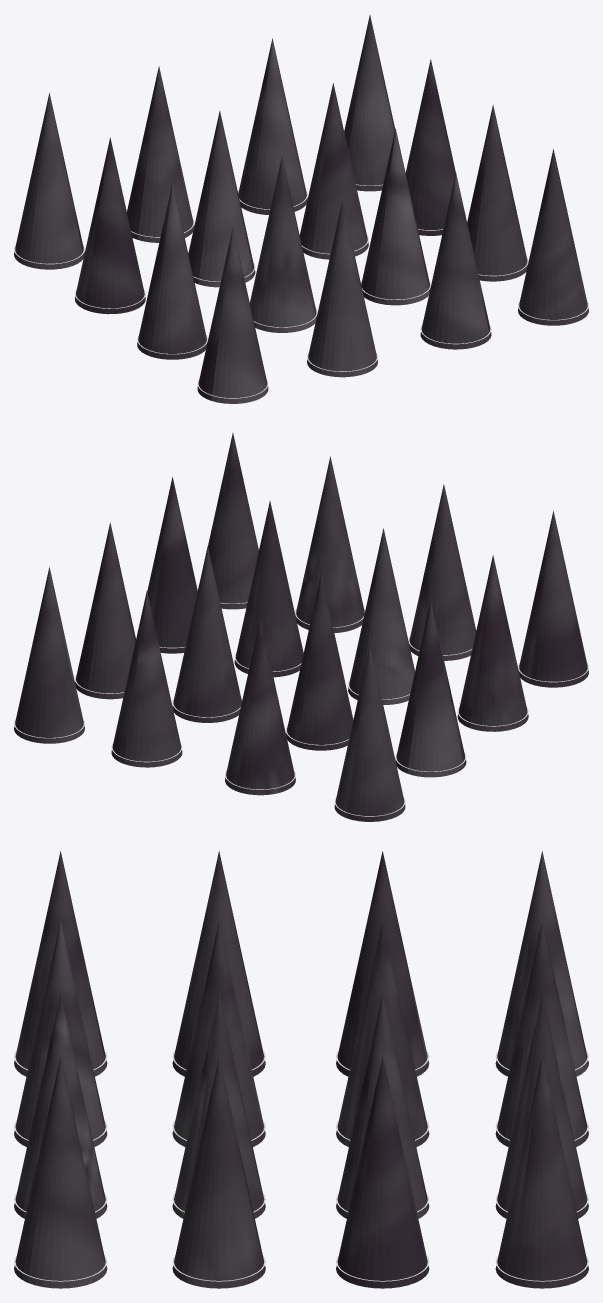
Rendered from Kolce.fbx.
The picture shows the model from 3 angles, top to bottom: view 1: azimuth 30°, elevation 25°; view 2: azimuth 150°, elevation 25°; view 3: azimuth 270°, elevation 25°; orthographic projection. The views are drawn at different scales.
Visible parts, largest first — view 1: Kolce, Dziury; view 2: Kolce, Dziury; view 3: Kolce, Dziury.
Boxes of the visible parts, x1,y1,x2,y2 form: Kolce: (14, 15, 588, 403); Dziury: (14, 168, 588, 398); Kolce: (14, 433, 588, 821); Dziury: (14, 585, 588, 816); Kolce: (14, 850, 588, 1288); Dziury: (14, 1050, 588, 1281).
Size of the model in its own units: 184 by 74.65 by 182.
